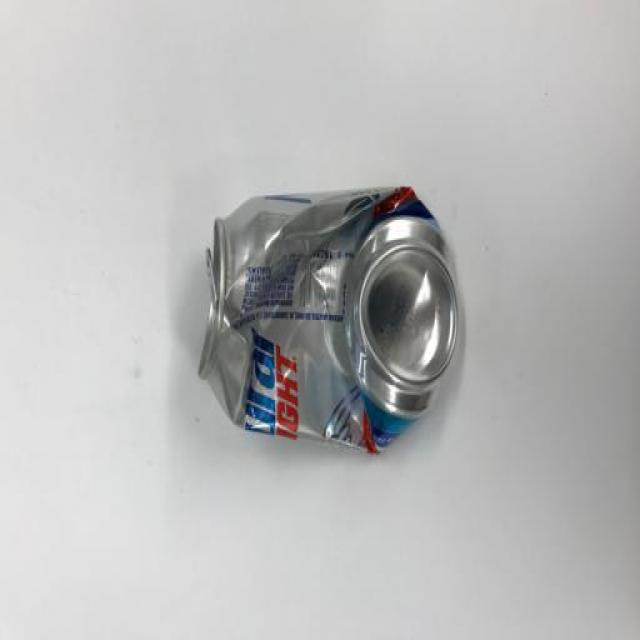metel: (189, 189, 458, 485)
